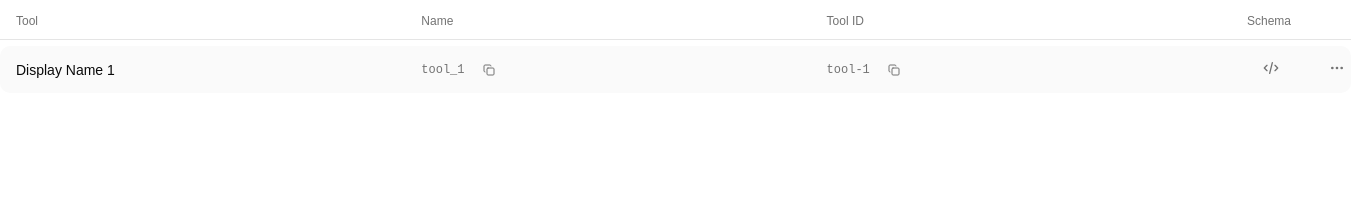
ToolsTable › toggle dropdown (onToggleTool provided) › renders actions in the order Edit, Activate/Deactivate, Delete
Click the button named "More options" at coordinates (1337, 68), box [1327,58,1347,78]
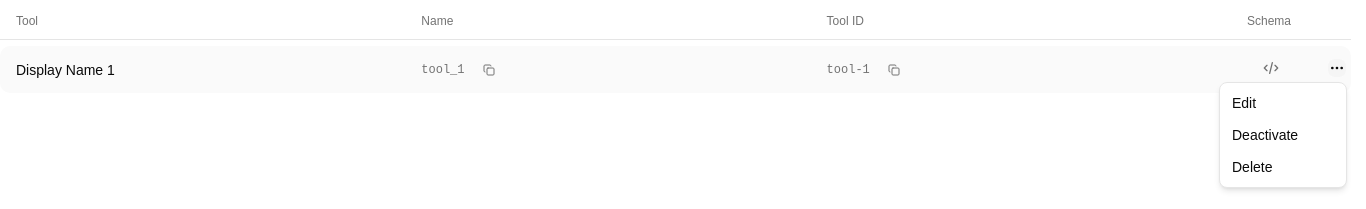
Check: the menu items read "Edit", "Deactivate", "Delete", in this order, box [1232,95,1256,111]; [1232,127,1298,143]; [1232,159,1272,175]
